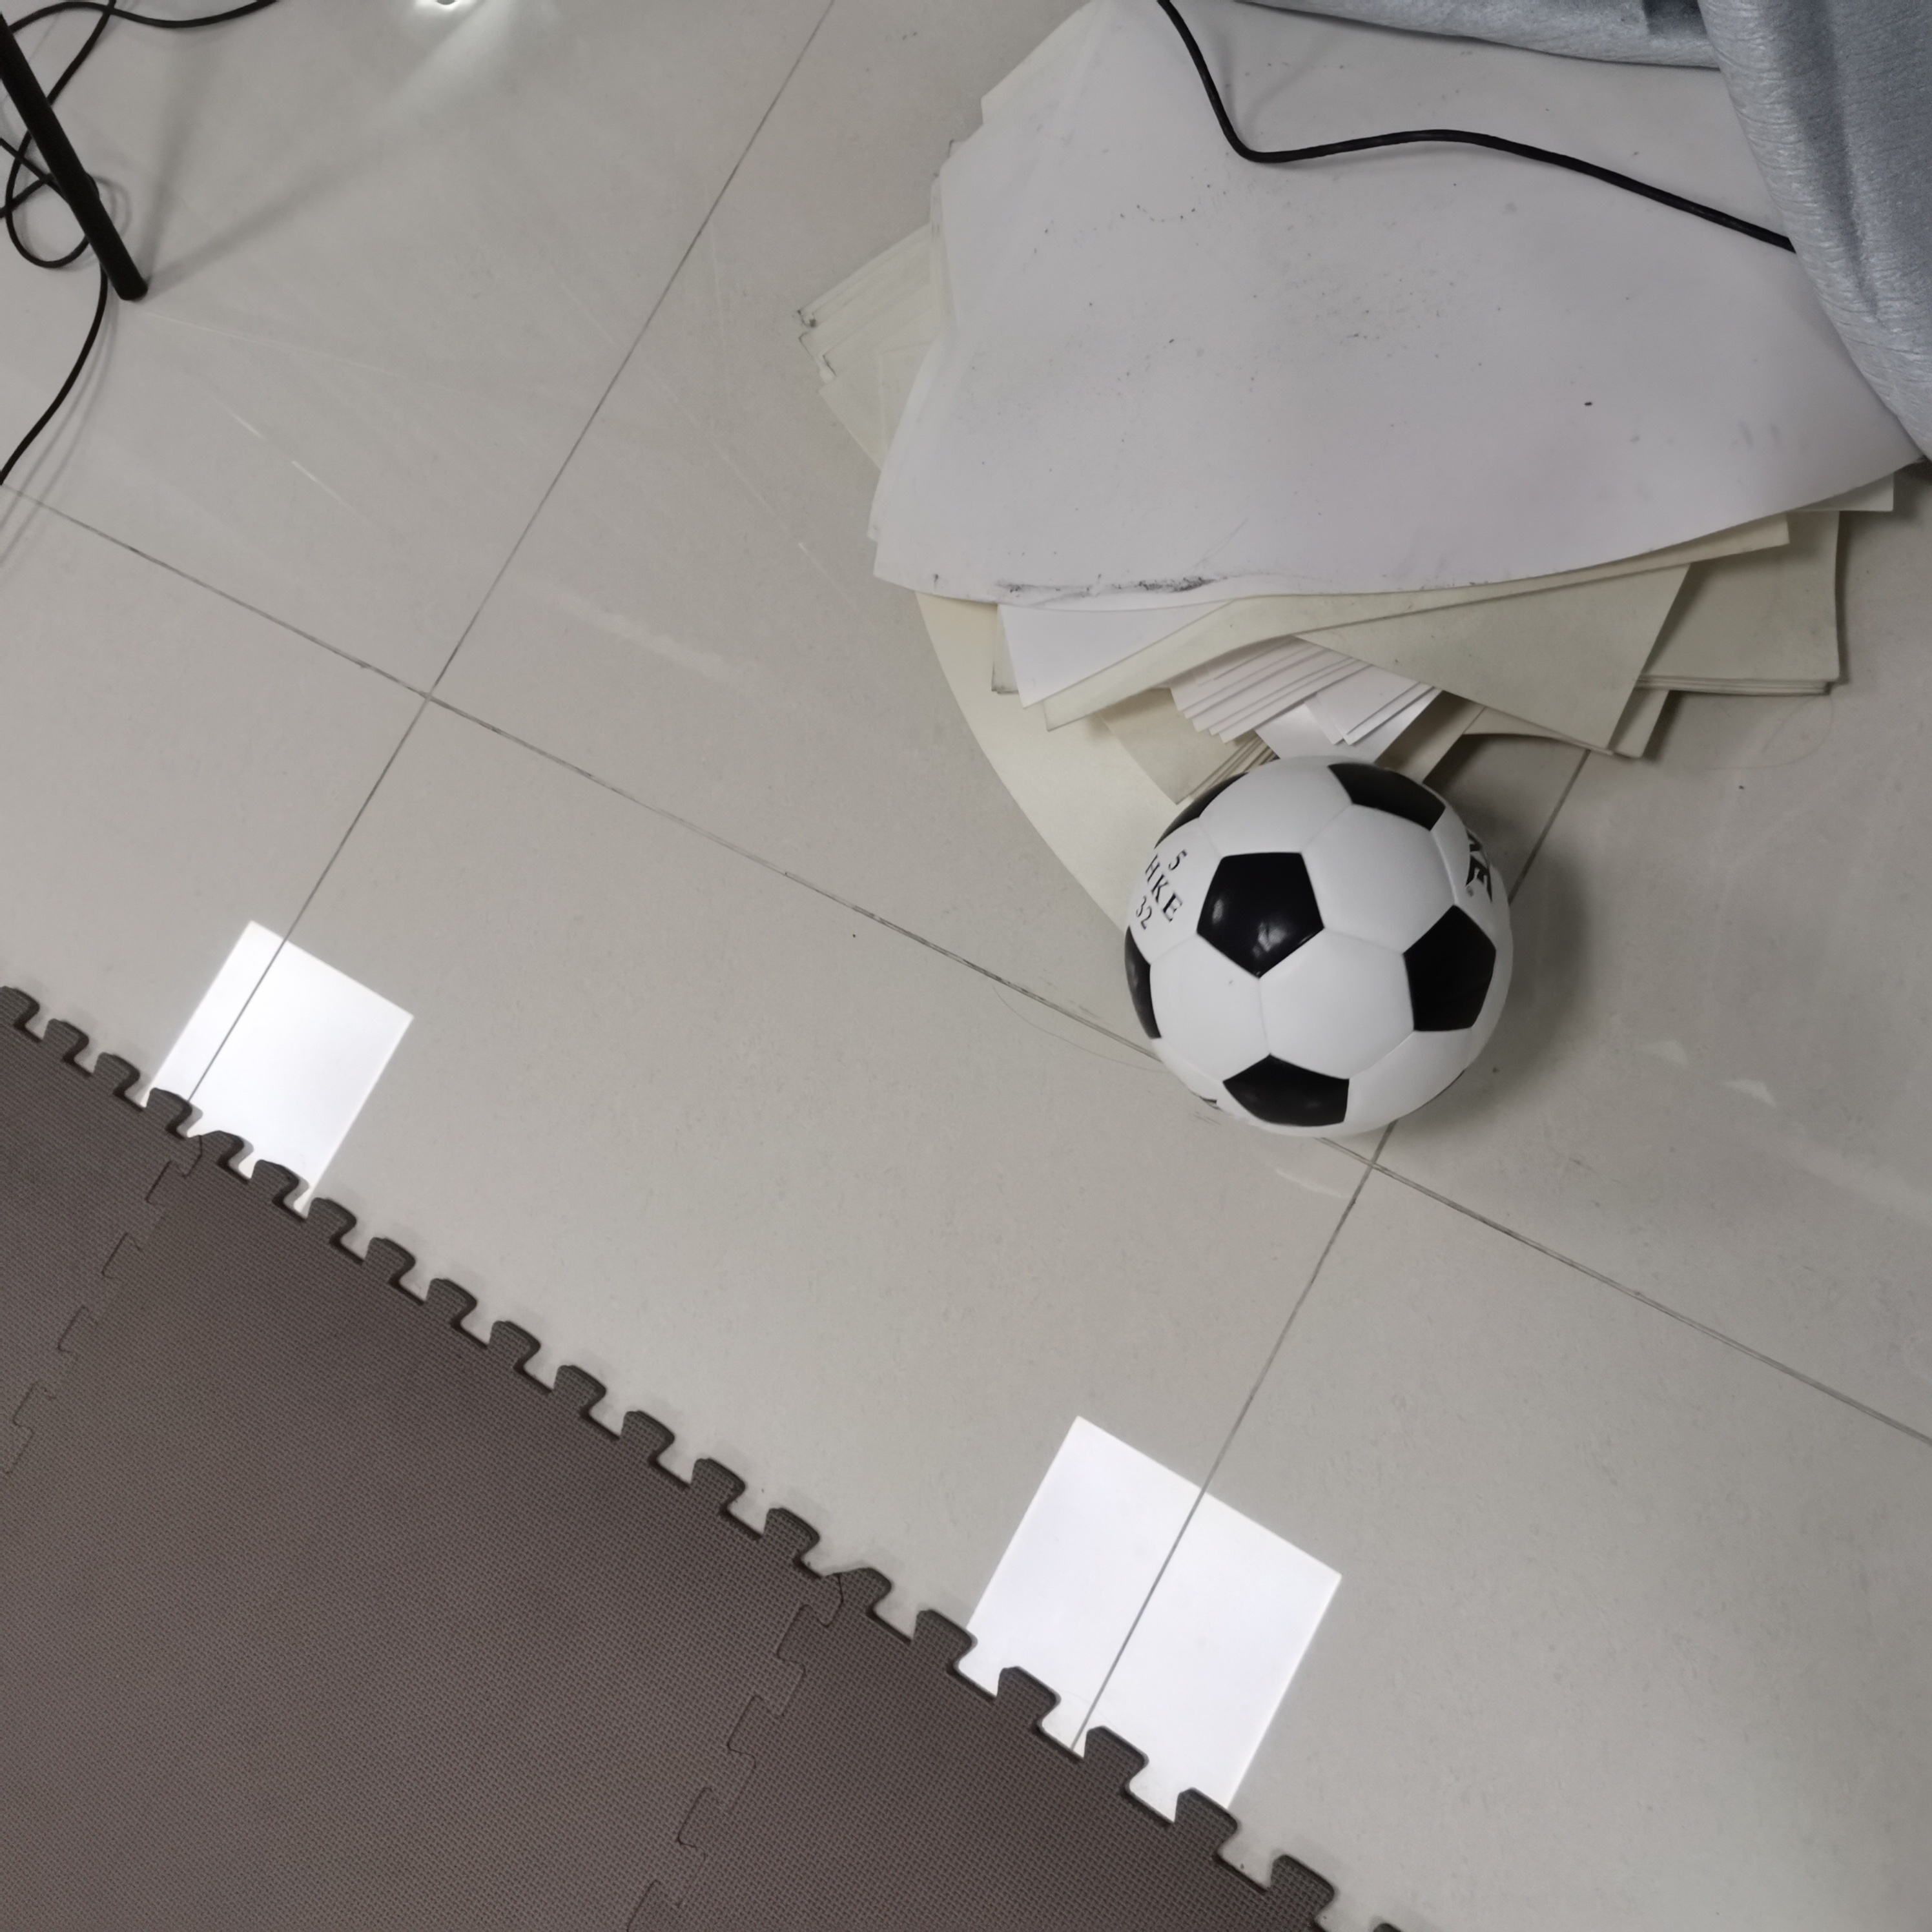football: (1120, 766, 1523, 1141)
